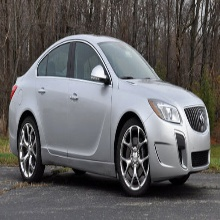no damage: (8, 33, 211, 197)
